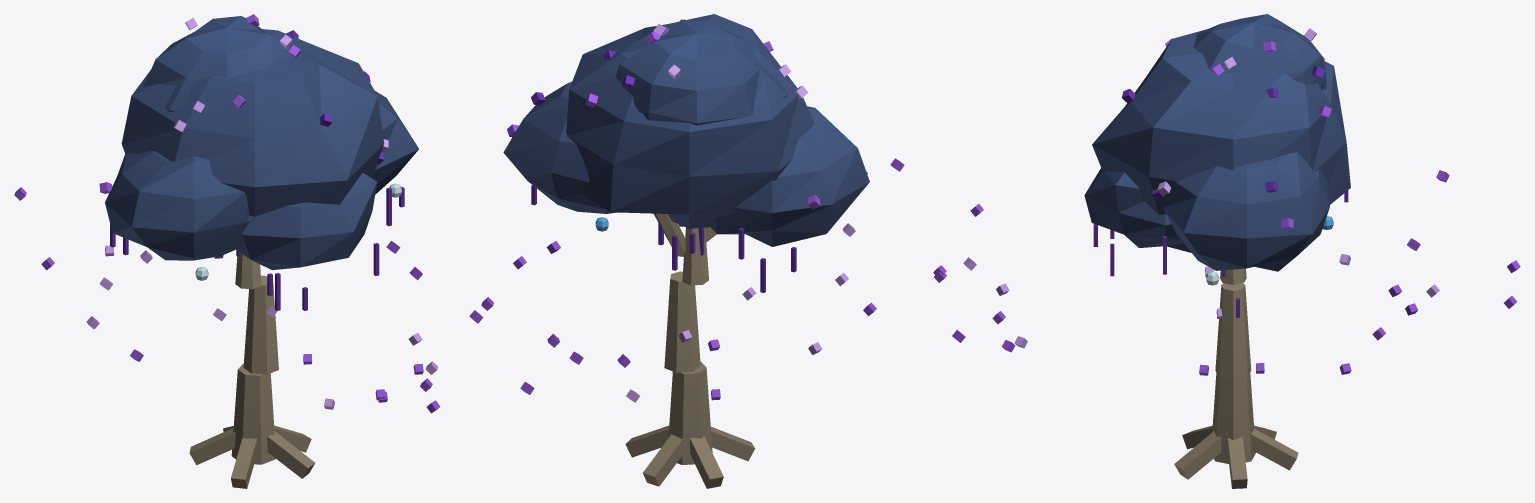
Rendered from lumen_tree.glb.
The picture shows the model from 3 angles, left to right: view 1: azimuth 30°, elevation 25°; view 2: azimuth 150°, elevation 25°; view 3: azimuth 270°, elevation 25°; orthographic projection. The views are drawn at different scales.
Visible parts, largest first — view 1: lumen_tree; view 2: lumen_tree; view 3: lumen_tree.
Part boxes in pixels (bbox=[...]): lumen_tree: bbox=[14, 14, 440, 488]; lumen_tree: bbox=[469, 14, 904, 488]; lumen_tree: bbox=[933, 14, 1520, 488].
Size of the model in its own units: 5.27 by 7.01 by 8.63.
